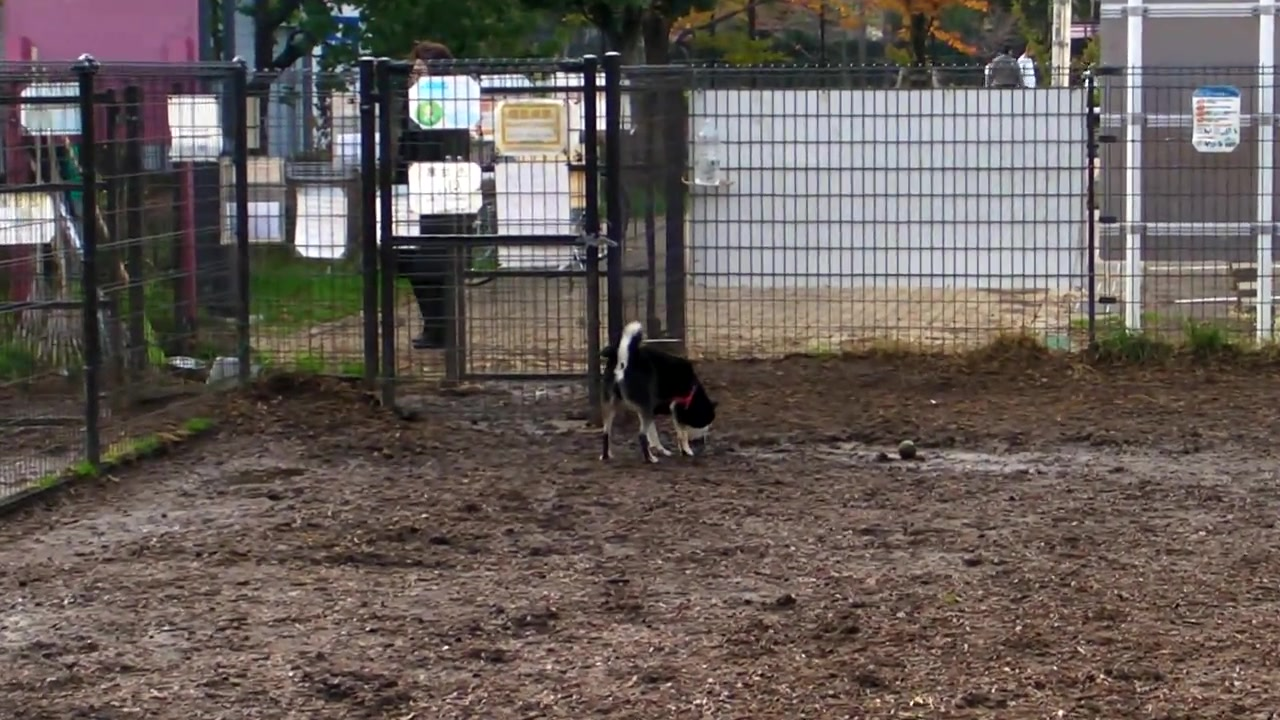dog: (596, 321, 722, 463)
